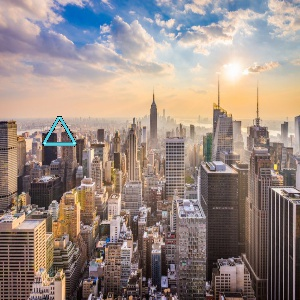triangle: (40, 114, 78, 147)
